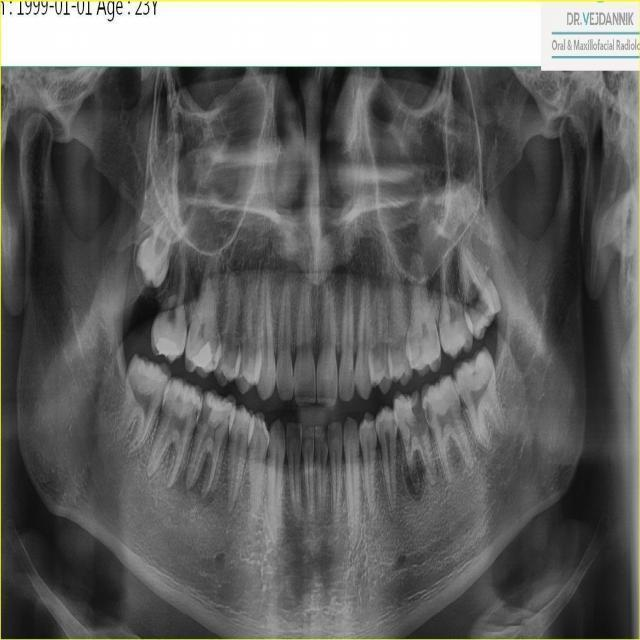Caries: (411, 392, 428, 436), (197, 392, 212, 425), (423, 398, 433, 425), (191, 401, 200, 423), (176, 389, 188, 404), (432, 325, 439, 346), (390, 414, 397, 431)
Filling: (193, 342, 216, 364), (156, 338, 178, 357)
Periapical lesion: (169, 469, 215, 503), (403, 456, 430, 499)
impacted tooth: (136, 199, 184, 286)
